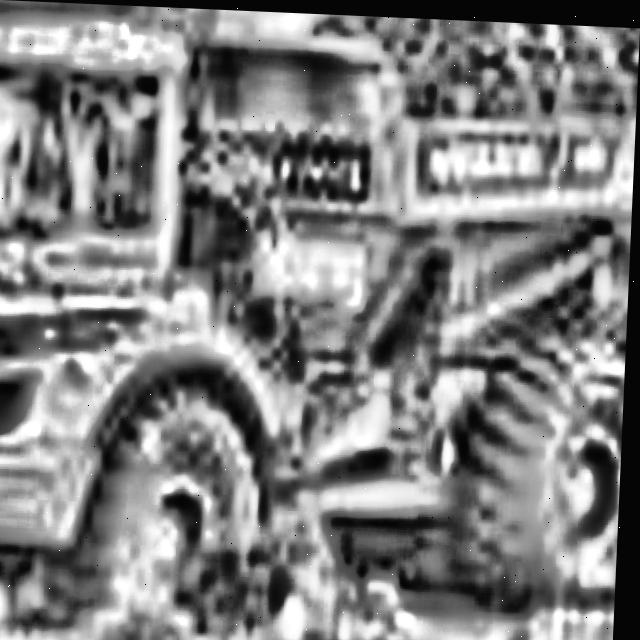dump_truck: (0, 0, 640, 635)
